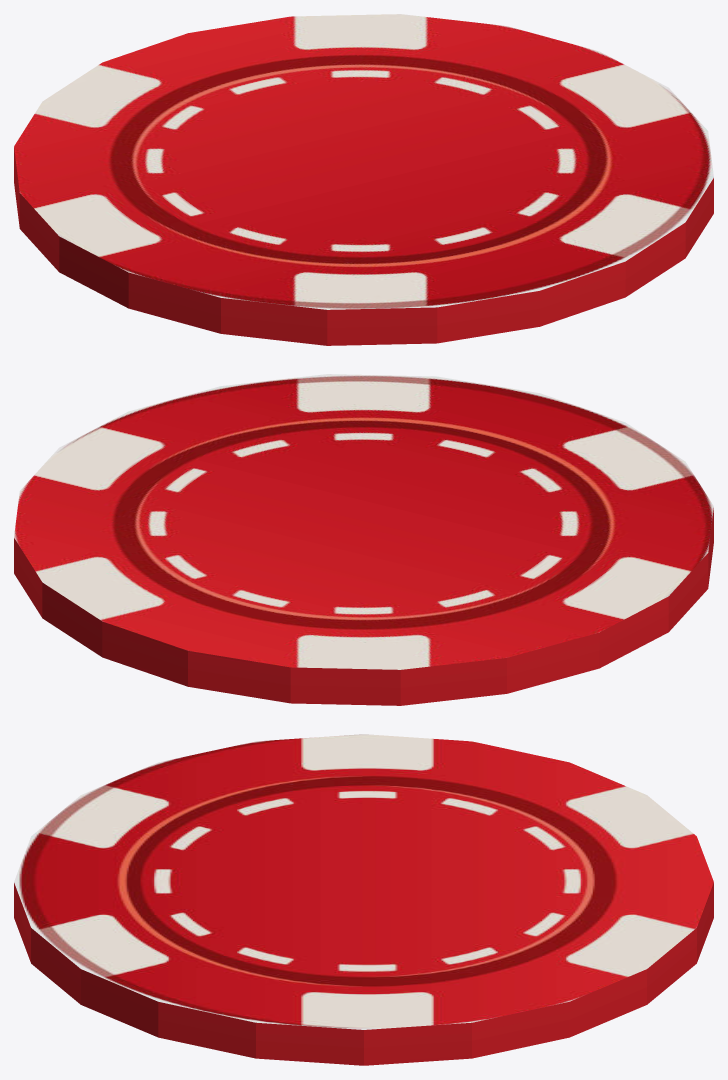
The model's file is RedChip.fbx.
3 renders of one model, top to bottom at view 1: azimuth 30°, elevation 25°; view 2: azimuth 150°, elevation 25°; view 3: azimuth 270°, elevation 25°, orthographic.
Visible parts, largest first — view 1: Cylinder.001; view 2: Cylinder.001; view 3: Cylinder.001.
Boxes of the visible parts, bbox=[...] form: Cylinder.001: bbox=[14, 14, 713, 345]; Cylinder.001: bbox=[14, 374, 713, 705]; Cylinder.001: bbox=[14, 734, 713, 1065].
Bounding box in the file's own units: 2 × 0.1129 × 2.
1 material, 1 textured.
